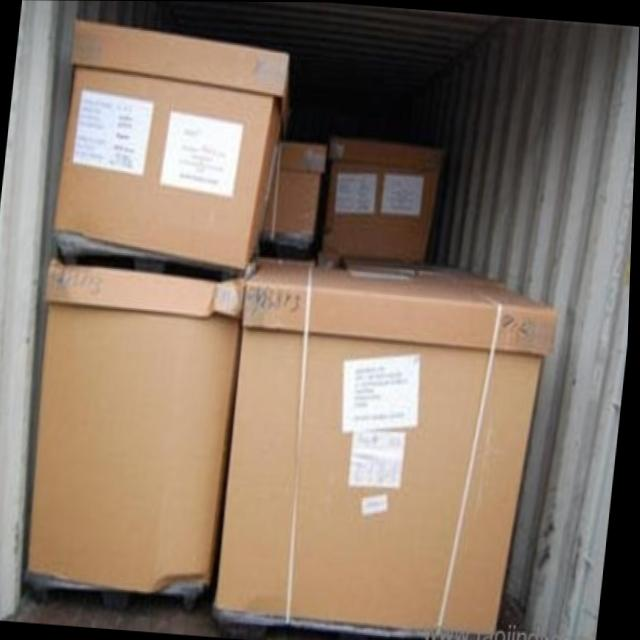box: (220, 263, 561, 634), (31, 256, 246, 592), (55, 18, 293, 270), (323, 134, 446, 261), (261, 142, 327, 257)
